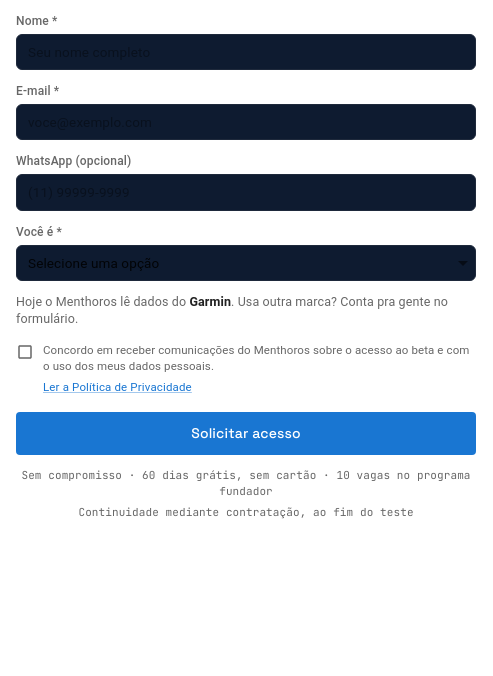
Test case: AccessRequestForm › exibe a confirmação de outra marca quando segment é OTHER_BRAND
The image size is (493, 676).
Type "Carla" into the field labelled "Nome".
click(246, 52); type("Carla")  # box [17,35,475,69]
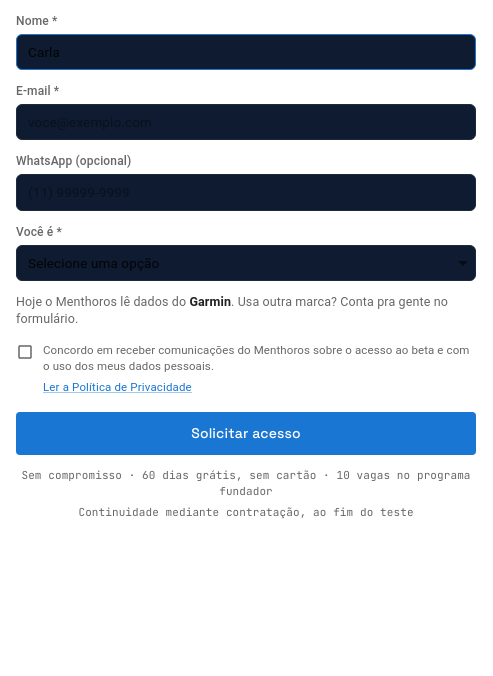
Type "carla@exemplo.com" into the field labelled "E-mail".
click(246, 122); type("carla@exemplo.com")  # box [17,105,475,139]
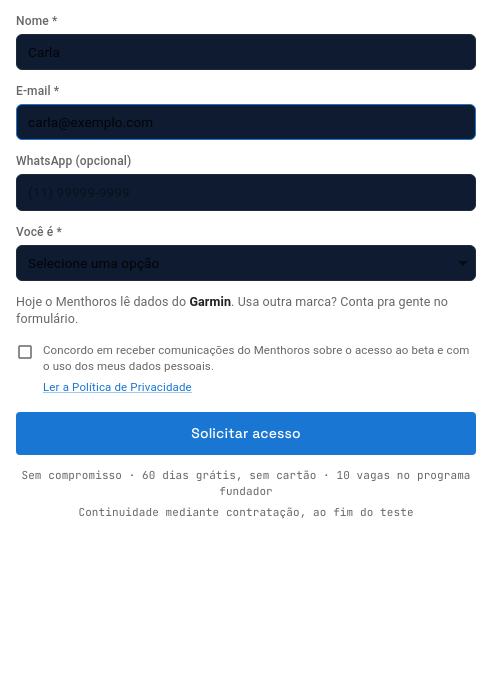
Select "Treinador" in the dropdown labelled "Você é" at (246, 263), box [17,246,475,280]
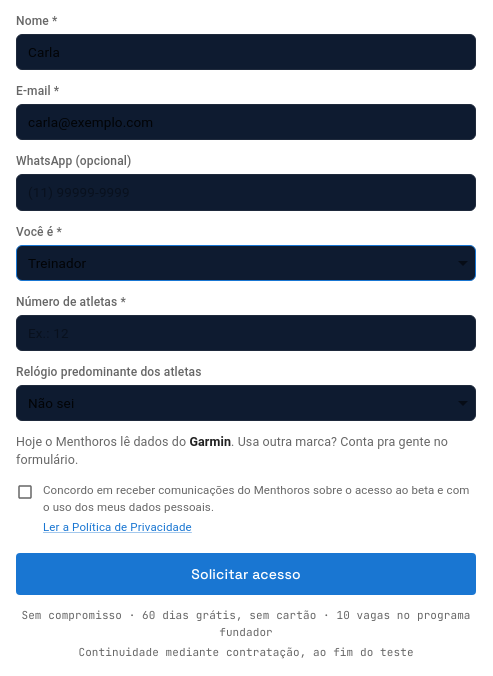
Type "15" into the number field labelled "Número de atletas".
click(246, 333); type("15")  # box [17,316,475,350]
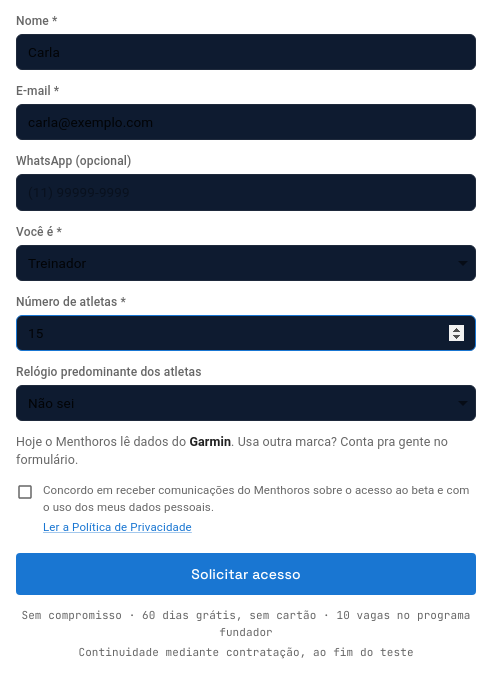
Click the checkbox.
click(246, 499)  # box [16,482,476,515]
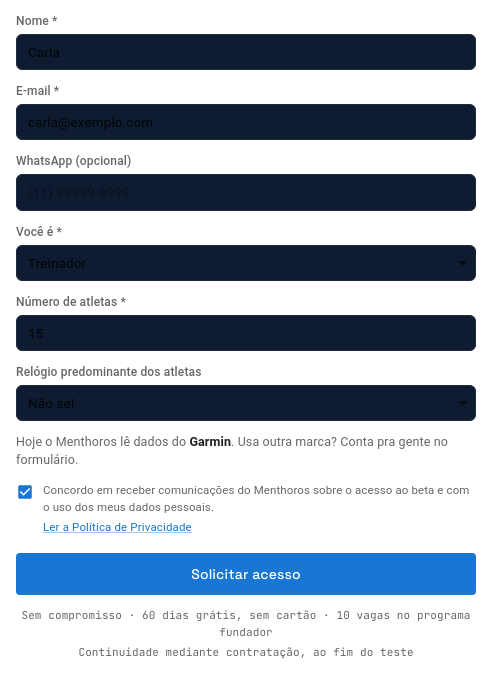
Click the button "Solicitar acesso".
click(246, 574)  # box [16,553,476,595]
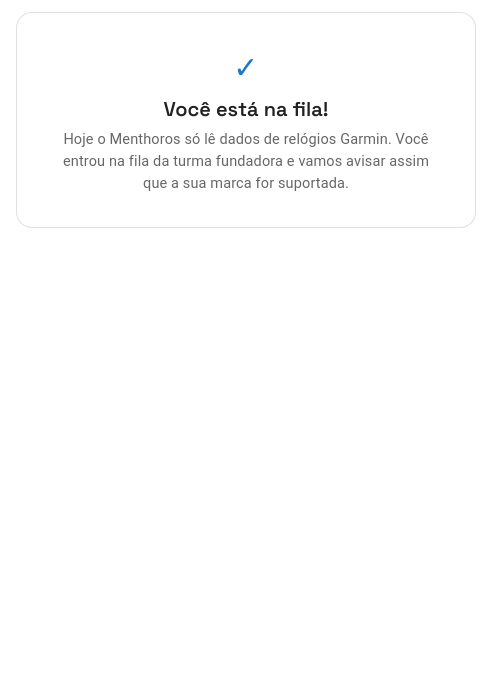
Check: the text "só lê dados de relógios Garmin" is shown, box [63,131,429,192]
